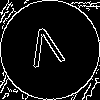V: (25, 25, 68, 77)
